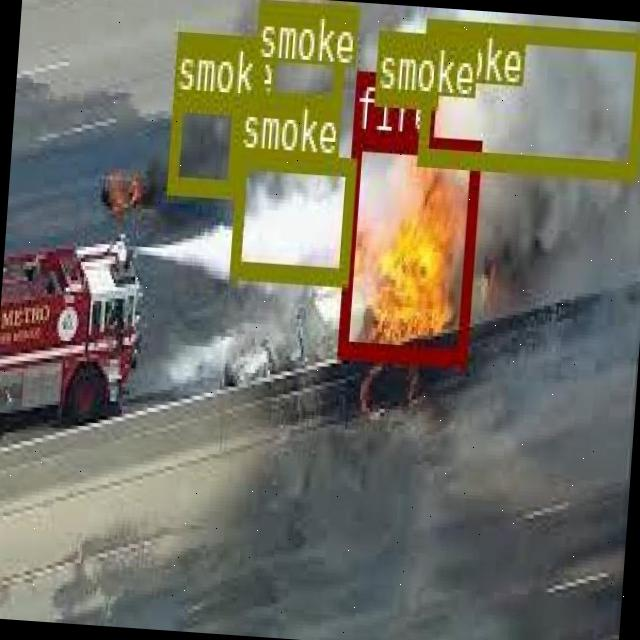fire: (337, 129, 478, 361)
smoke: (415, 16, 640, 176), (228, 148, 355, 282), (252, 0, 346, 113), (166, 90, 242, 193), (374, 28, 438, 104)
